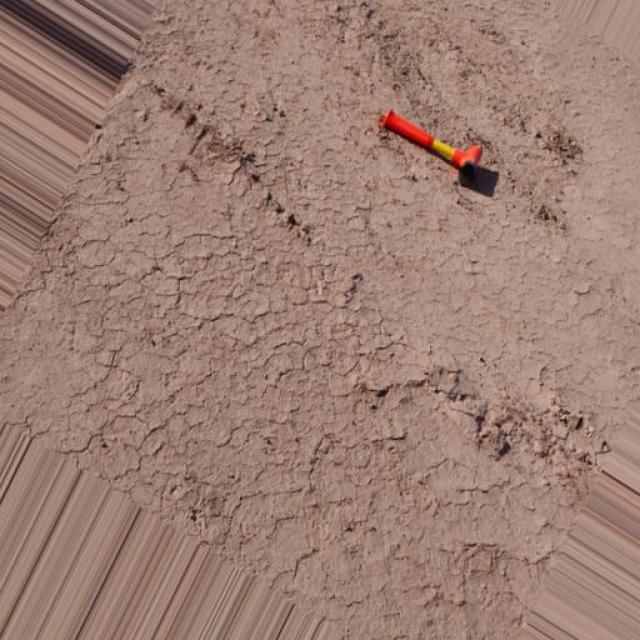mallet: (377, 106, 482, 182)
